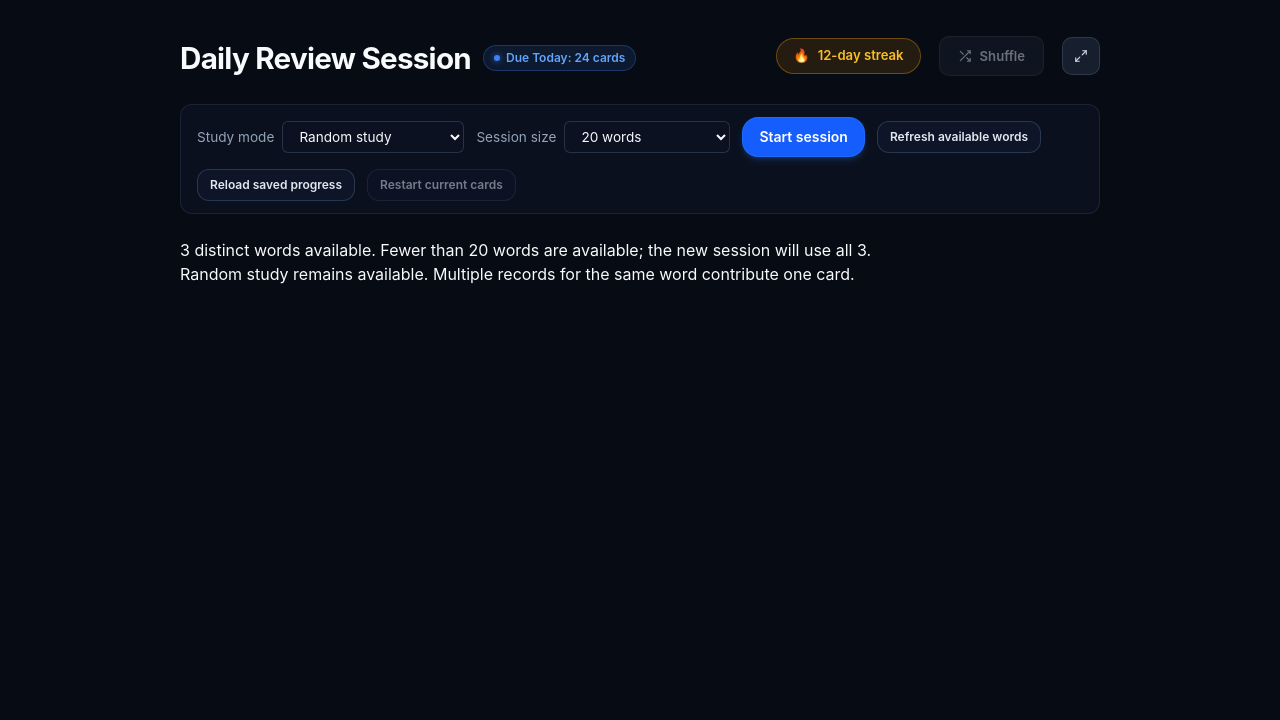
Test case: places navigation inside the card and supports Space and arrow keys without flipping twice
Click the button "Start session". click: (804, 137)
box: x1=742 y1=117 x2=865 y2=157
(page scrolled)
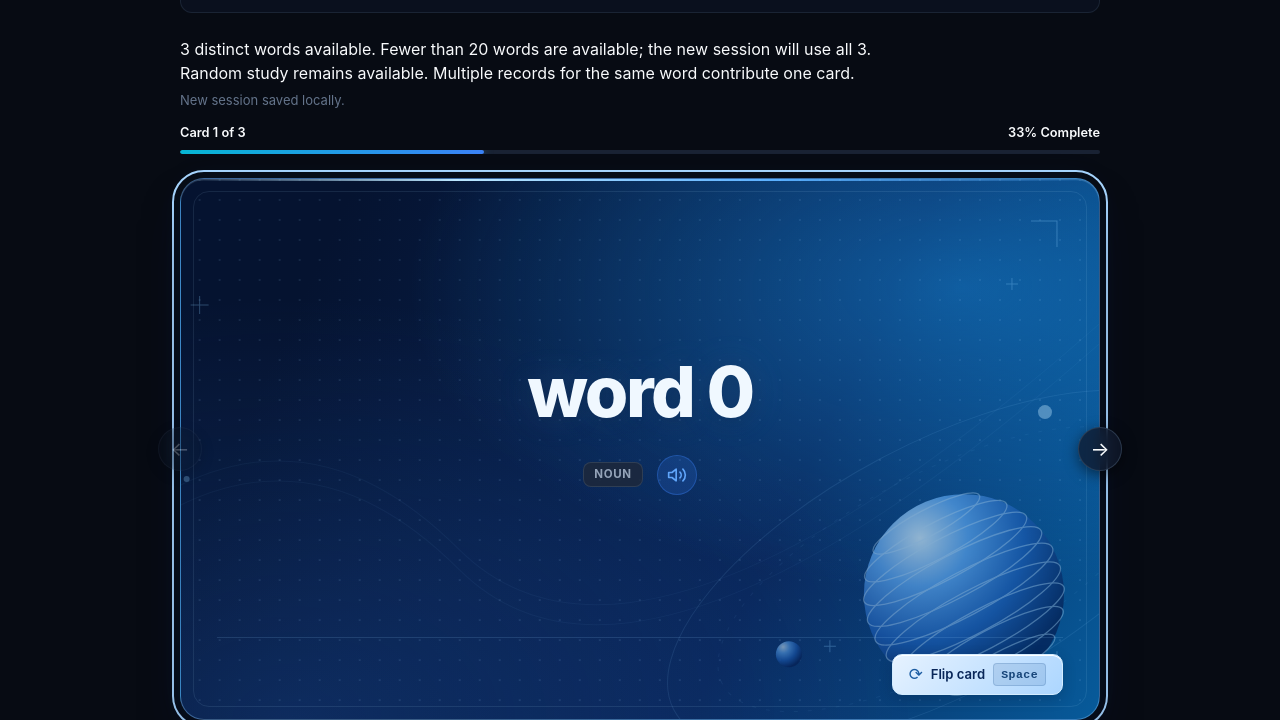
Now the element named "Card front" is shown, box x1=180 y1=178 x2=1100 y2=719
Now the button named "Previous" is shown, box x1=158 y1=427 x2=202 y2=471
Now the button named "Next" is shown, box x1=1078 y1=427 x2=1122 y2=471
Type keys " "
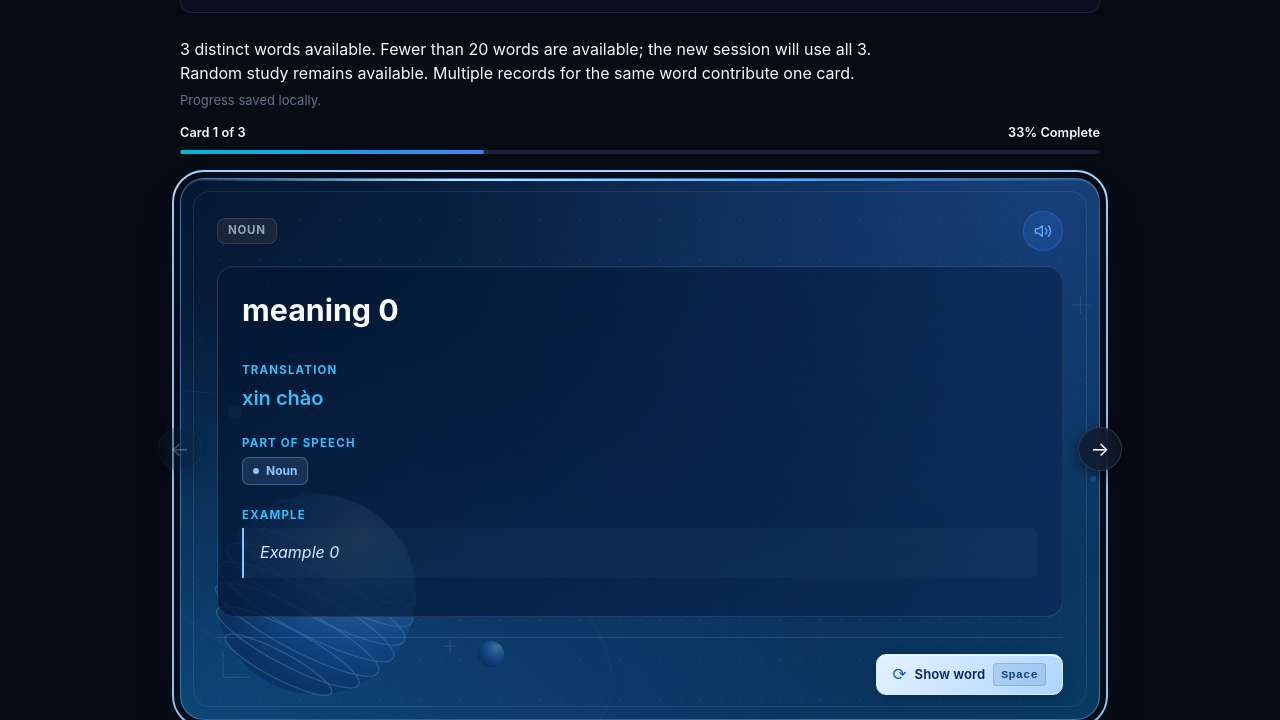
Now the element named "Card back" is shown, box x1=180 y1=178 x2=1100 y2=719
Press Arrowright
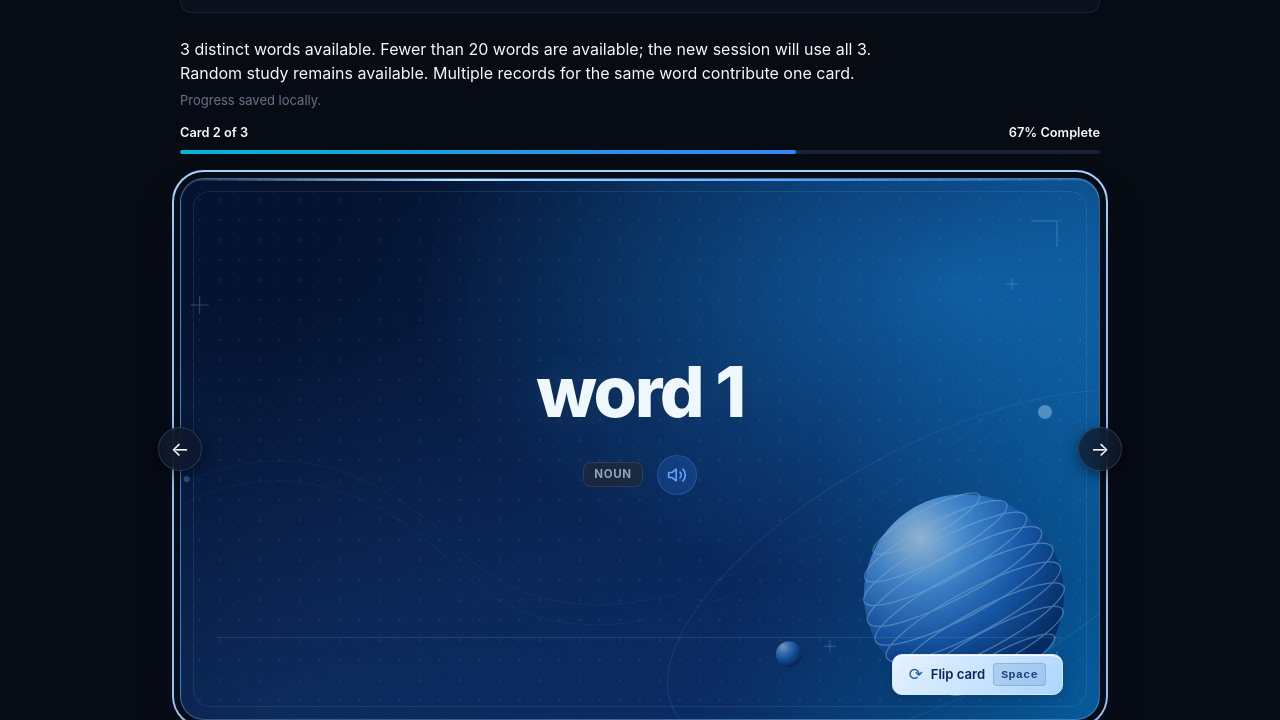
Now the text "Card 2 of 3" is shown, box x1=180 y1=123 x2=248 y2=142
Now the element named "Card front" is shown, box x1=180 y1=178 x2=1100 y2=719
Press Arrowleft
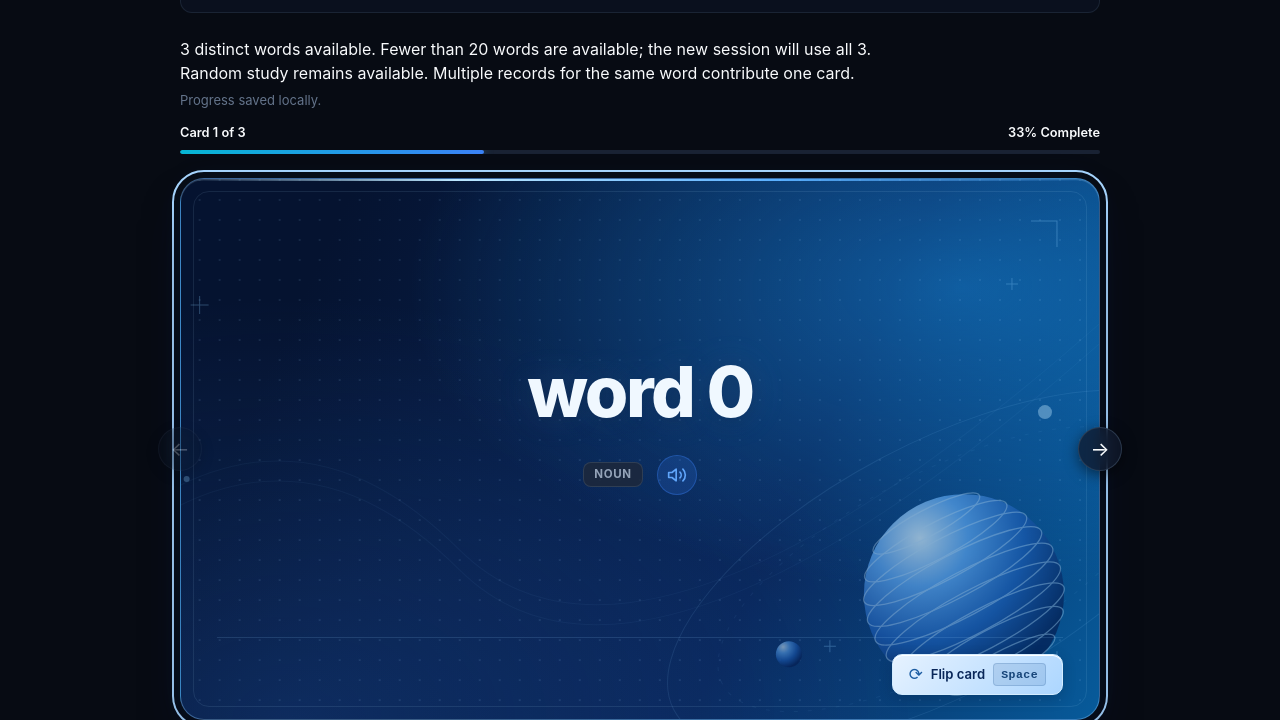
Now the text "Card 1 of 3" is shown, box x1=180 y1=123 x2=246 y2=142
Click the button named "Next". click: (1100, 449)
box: x1=1078 y1=427 x2=1122 y2=471
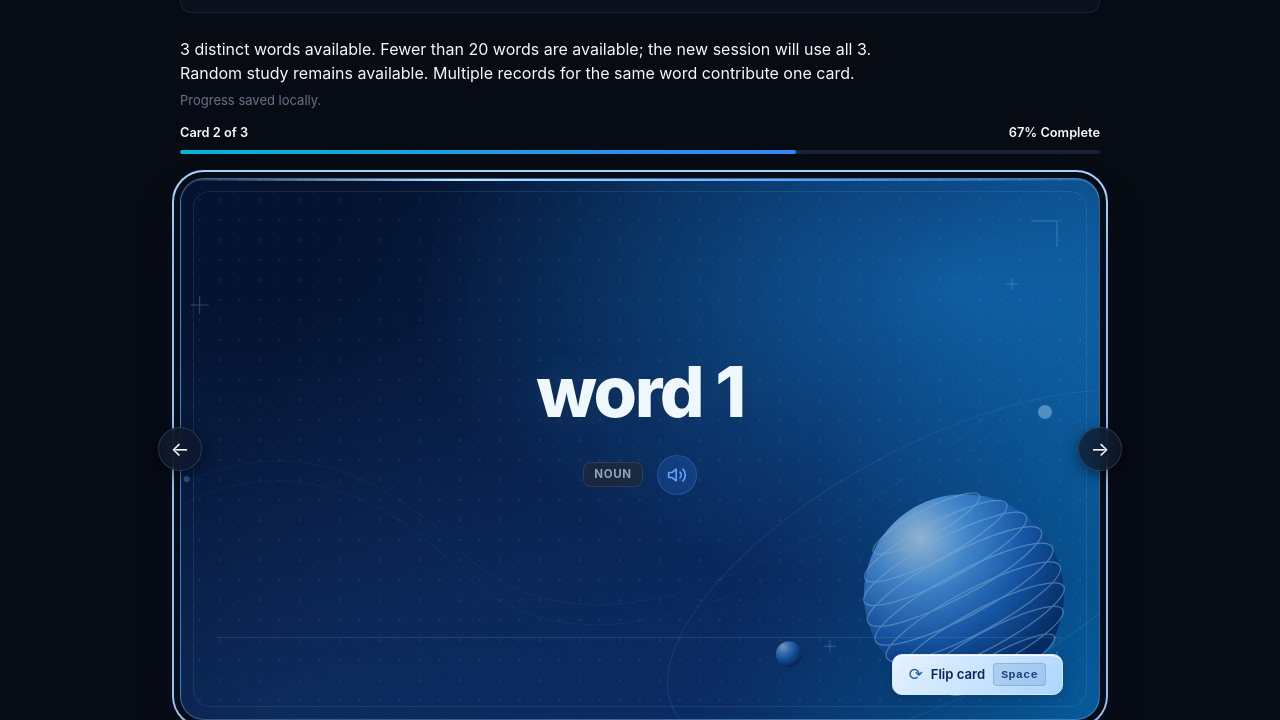
Now the element named "Card front" is shown, box x1=180 y1=178 x2=1100 y2=719
Now the text "Card 2 of 3" is shown, box x1=180 y1=123 x2=248 y2=142
